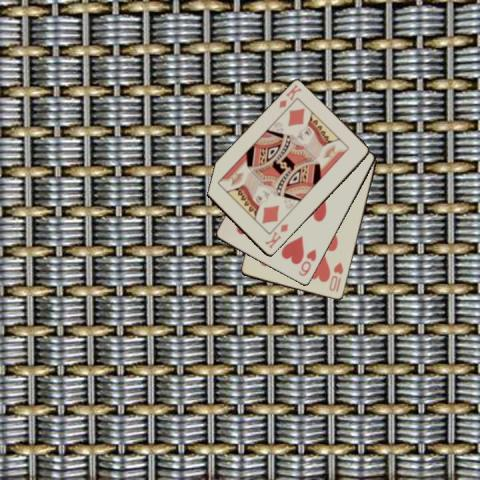10h: (326, 260, 345, 294)
6h: (295, 246, 318, 278)
Kd: (262, 221, 289, 250), (276, 82, 303, 110)
